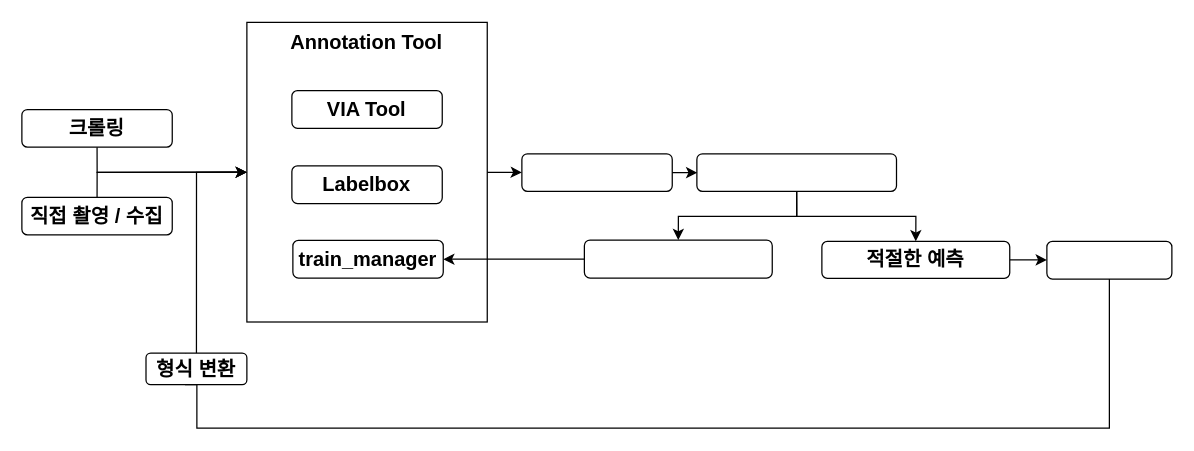
Image size: 1194x451. Some labels were removed from this diagram. The shapes that lost their labels are listed below. From the top down, each one's box as (x1, y1, x2, y2) in pixels, then its label:
(521, 152, 672, 191): 데이터셋 통합
(696, 152, 896, 191): 딥러닝 모델 학습
(583, 239, 772, 278): 잘못된 예측
(1046, 240, 1172, 279): 배포 (API)
